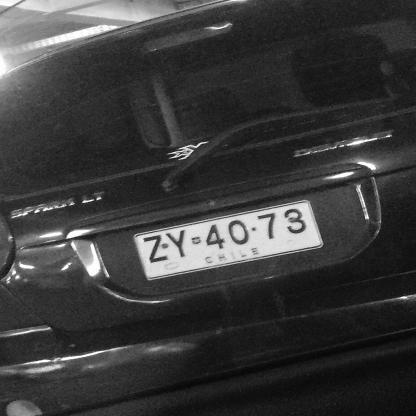Patente: (131, 199, 328, 282)
